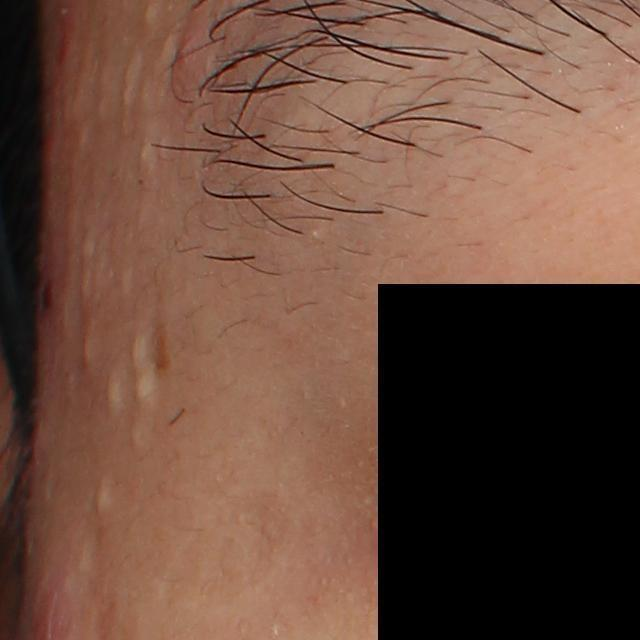comedo: (99, 367, 123, 416), (92, 476, 109, 519), (137, 0, 157, 28), (128, 420, 145, 449)
